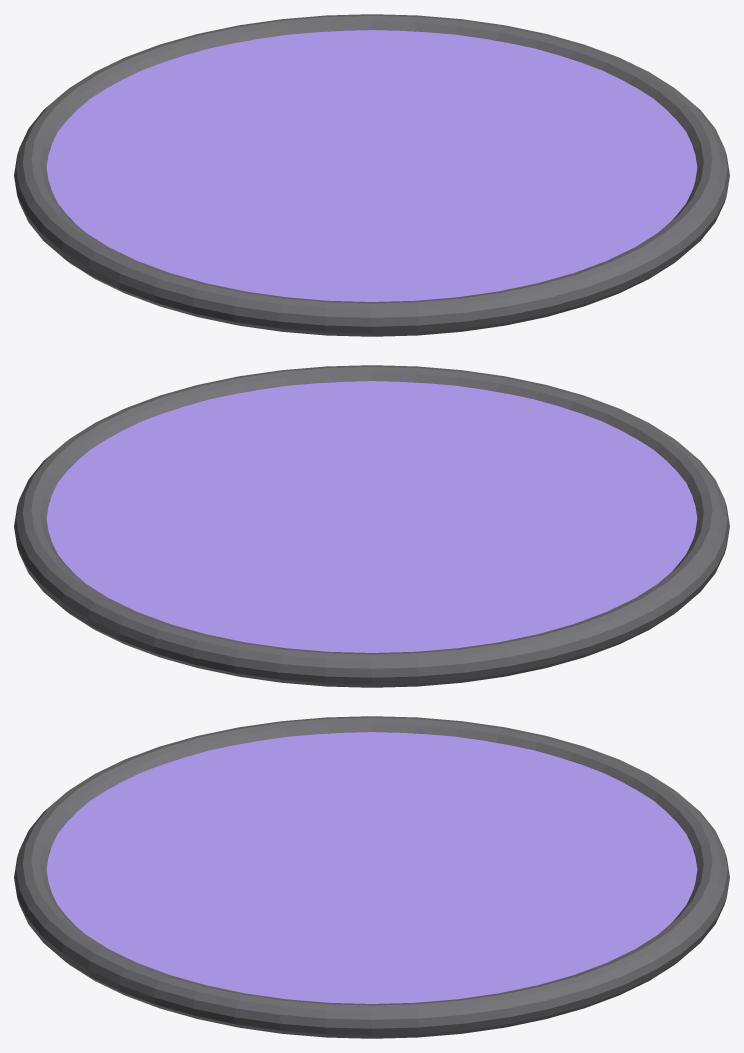
File: Toy_SpawnPad_Violet.fbx
3 views of the same model, one above another, from view 1: azimuth 30°, elevation 25°; view 2: azimuth 150°, elevation 25°; view 3: azimuth 270°, elevation 25° (orthographic).
Visible parts, largest first — view 1: Toy_SpawnPad_Violet; view 2: Toy_SpawnPad_Violet; view 3: Toy_SpawnPad_Violet.
Boxes of the visible parts, x1,y1,x2,y2 form: Toy_SpawnPad_Violet: (14,14,729,336); Toy_SpawnPad_Violet: (14,365,729,687); Toy_SpawnPad_Violet: (14,716,729,1038).
Bounding box in the file's own units: 1.64 × 0.08 × 1.64.
